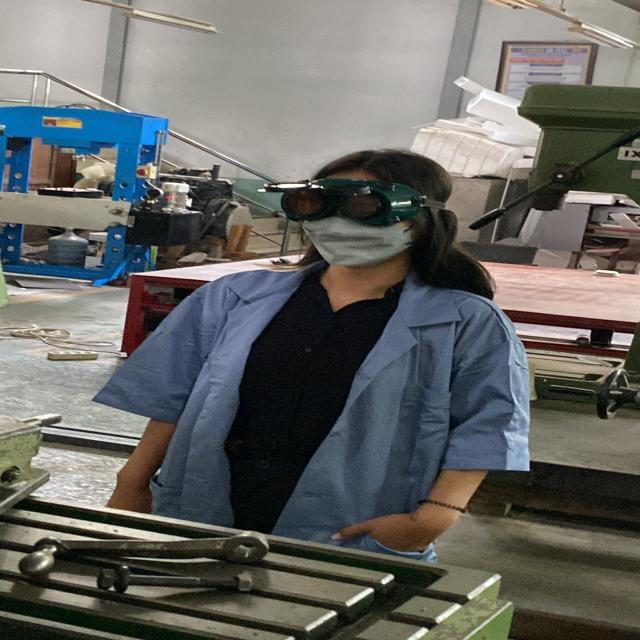glasses: (246, 176, 454, 226)
